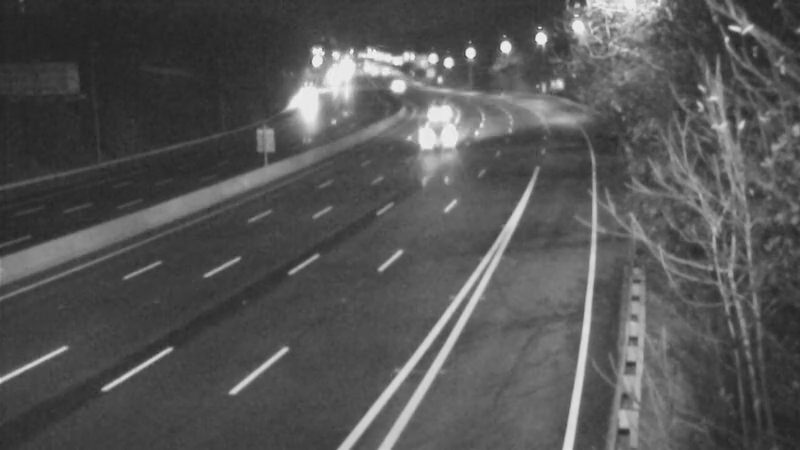vehicle: (372, 62, 422, 112), (414, 90, 464, 140), (413, 114, 463, 164)
